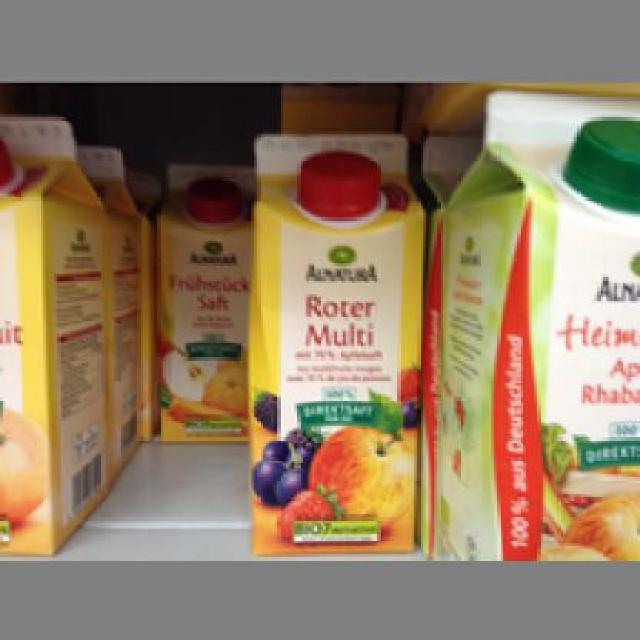Juice: (245, 125, 426, 546), (146, 154, 252, 440)
